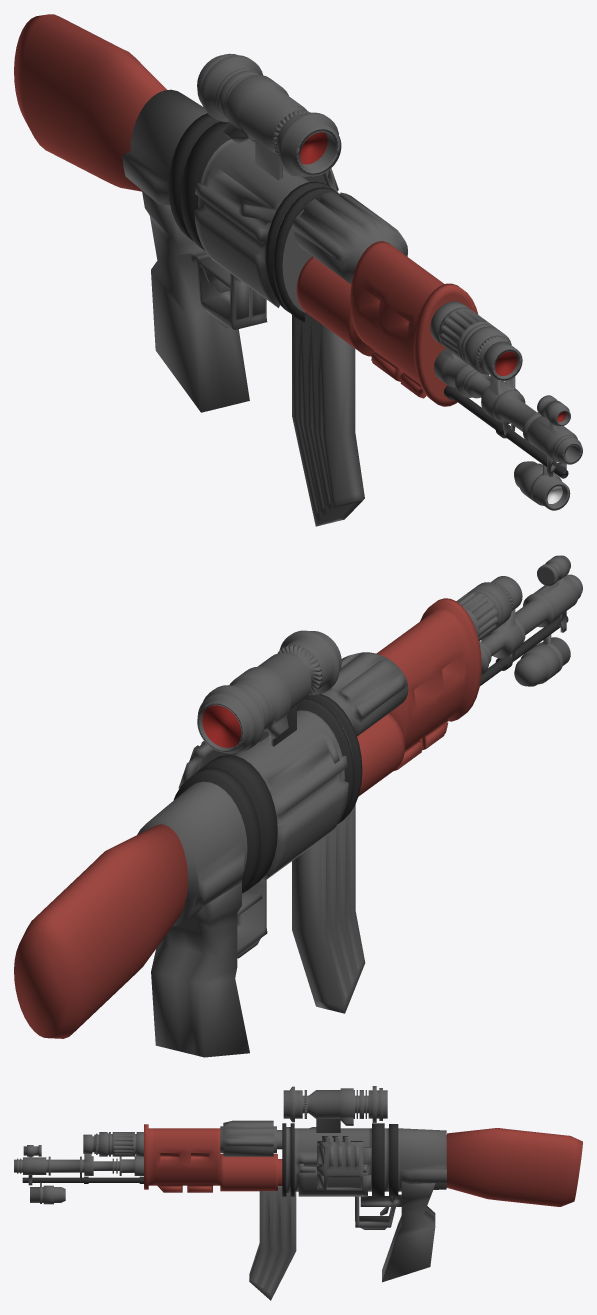
The model's file is AK-47_Aksesoris_Depan2_dan_Aksesoris_Scope1.fbx.
The picture shows the model from 3 angles, top to bottom: view 1: azimuth 30°, elevation 25°; view 2: azimuth 150°, elevation 25°; view 3: azimuth 270°, elevation 25°; orthographic projection. The views are drawn at different scales.
Parts seen in each view (by area): view 1: Objek AK47 9, Objek AK47 11, Objek AK47 10, Objek AK47 12, Objek AK47 6, Cylinder, Objek AK47 7, Objek AK47 2, Objek AK47 1, Objek AK47 5, Cylinder.002, Objek AK47 3 (+1 smaller); view 2: Objek AK47 9, Objek AK47 11, Objek AK47 10, Objek AK47 12, Cylinder, Objek AK47 6, Objek AK47 7, Objek AK47 2, Objek AK47 5, Objek AK47 1, Cylinder.002, Objek AK47 3 (+1 smaller); view 3: Objek AK47 9, Objek AK47 11, Objek AK47 6, Objek AK47 10, Objek AK47 12, Cylinder, Objek AK47 5, Objek AK47 7, Objek AK47 2, Objek AK47 1, Objek AK47 3, Cylinder.002.
Part boxes in pixels (x1,y1,x2,y2): Objek AK47 9: (122, 89, 340, 321); Objek AK47 11: (14, 14, 166, 191); Objek AK47 10: (142, 190, 267, 412); Objek AK47 12: (292, 312, 364, 526); Objek AK47 6: (350, 241, 478, 406); Cylinder: (197, 53, 341, 180); Objek AK47 7: (292, 192, 407, 284); Objek AK47 2: (434, 348, 582, 477); Objek AK47 1: (430, 301, 522, 380); Objek AK47 5: (296, 256, 373, 356); Cylinder.002: (514, 461, 570, 510); Objek AK47 3: (444, 385, 568, 478); Objek AK47 9: (137, 694, 362, 926); Objek AK47 11: (14, 824, 187, 1038); Objek AK47 10: (151, 878, 267, 1057); Objek AK47 12: (292, 804, 365, 1013); Cylinder: (197, 630, 341, 753); Objek AK47 6: (376, 598, 481, 771); Objek AK47 7: (321, 652, 408, 736); Objek AK47 2: (479, 574, 582, 675); Objek AK47 5: (357, 713, 404, 796); Objek AK47 1: (456, 576, 522, 641); Cylinder.002: (514, 634, 570, 686); Objek AK47 3: (479, 615, 568, 686); Objek AK47 9: (282, 1123, 446, 1196); Objek AK47 11: (446, 1128, 582, 1206); Objek AK47 6: (144, 1124, 220, 1192); Objek AK47 10: (355, 1181, 435, 1282); Objek AK47 12: (249, 1186, 296, 1300); Cylinder: (283, 1086, 387, 1132); Objek AK47 5: (220, 1154, 282, 1191); Objek AK47 7: (220, 1120, 282, 1156); Objek AK47 2: (14, 1153, 143, 1185); Objek AK47 1: (83, 1132, 143, 1156); Objek AK47 3: (22, 1176, 143, 1183); Cylinder.002: (30, 1182, 65, 1204).
Bounding box in the file's own units: 76.41 × 256 × 632.
